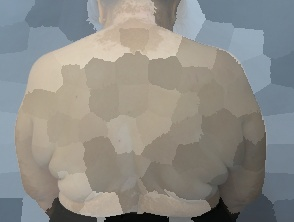vitiligo: (12, 0, 267, 222)
